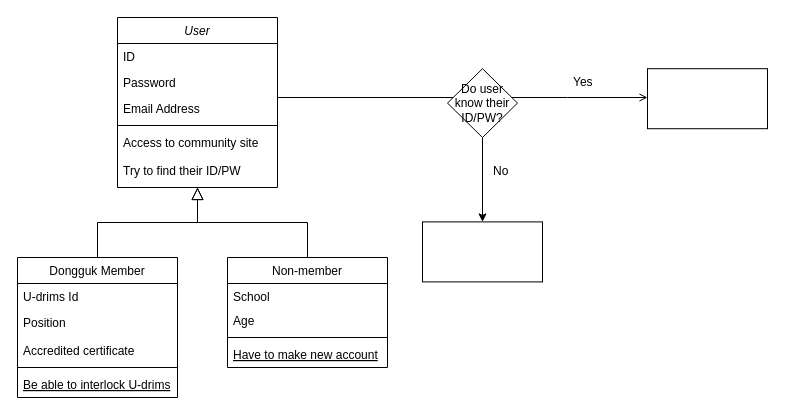
This 785x418 diagram has some shape labels left out. The shapes that lost their labels are listed below. From the top down, each one's centre as x and y in pixels, then its label:
At pixel 707 98: "Access the site".
At pixel 482 251: "show finding page".
